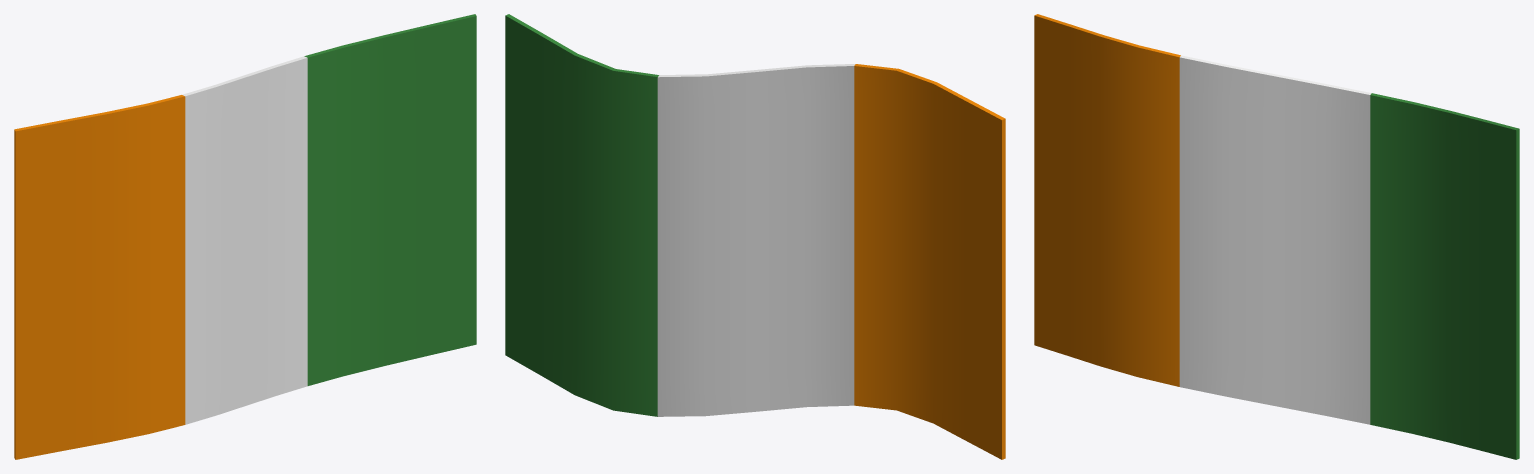
File: flag_cote_divoire.glb
The picture shows the model from 3 angles, left to right: view 1: azimuth 30°, elevation 25°; view 2: azimuth 150°, elevation 25°; view 3: azimuth 330°, elevation 25°; orthographic projection. The views are drawn at different scales.
Parts seen in each view (by area): view 1: Plane.415; view 2: Plane.415; view 3: Plane.415.
Part boxes in pixels (x1=…): Plane.415: x1=14, y1=14, x2=476, y2=459; Plane.415: x1=505, y1=14, x2=1005, y2=459; Plane.415: x1=1034, y1=14, x2=1519, y2=459.
Size of the model in its own units: 2.18 by 1.58 by 0.3373.
Materials: 1 (1 with a texture image).
